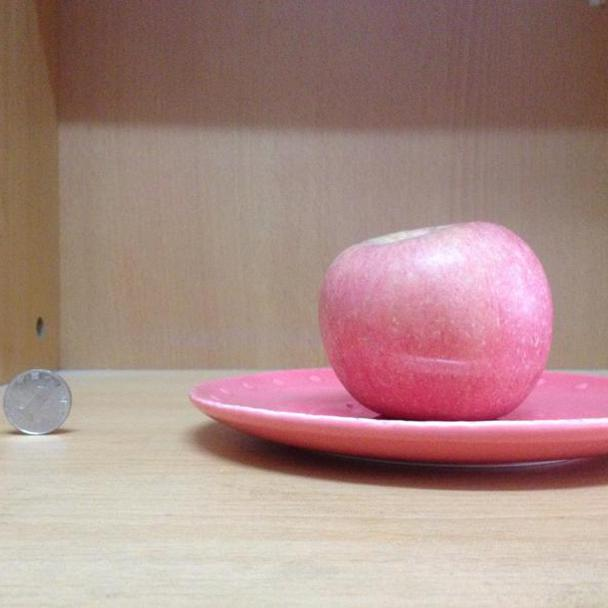apple: (314, 216, 558, 417)
